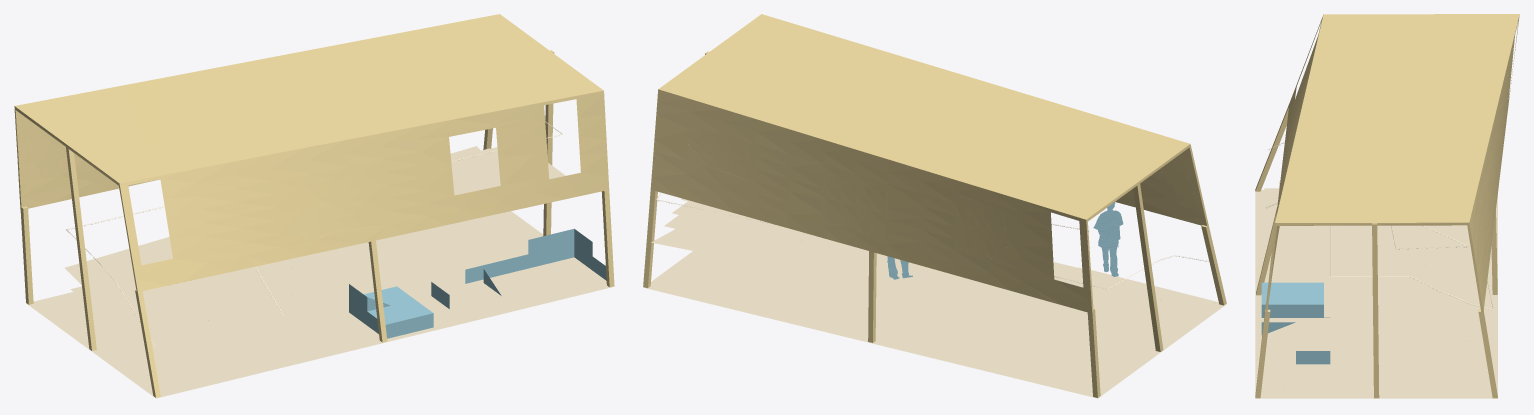
Rendered from terrace_model.glb.
3 views of the same model, side by side, from view 1: azimuth 30°, elevation 25°; view 2: azimuth 150°, elevation 25°; view 3: azimuth 270°, elevation 25° (orthographic). The views are drawn at different scales.
Visible parts, largest first — view 1: Layer 01, Terraces, Layer0; view 2: Layer 01, Terraces, Layer0; view 3: Layer 01, Terraces, Layer0.
Part boxes in pixels (box(x1,y1,x2,y2)): Layer 01: box(14, 14, 614, 397); Terraces: box(26, 121, 613, 398); Layer0: box(292, 228, 606, 338); Layer 01: box(643, 14, 1226, 397); Terraces: box(643, 193, 1226, 398); Layer0: box(887, 201, 1123, 279); Layer 01: box(1255, 14, 1519, 398); Terraces: box(1255, 142, 1497, 398); Layer0: box(1261, 282, 1330, 364).
Bounding box in the file's own units: 10.1 × 4 × 5.38.
